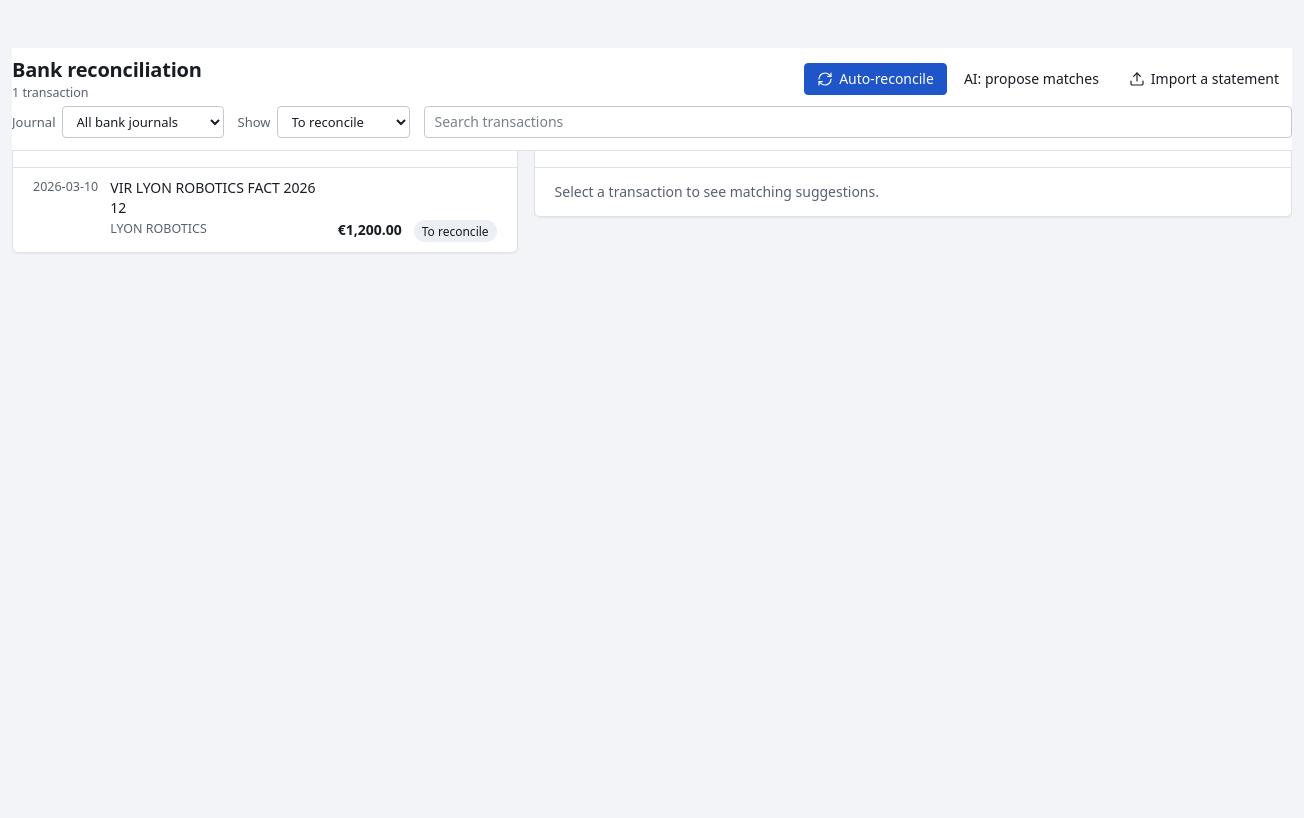
Test case: AI suggestions in bank reconciliation › ranks candidates for the selected transaction and accepts the match proposal
Step 1. Click the button "VIR LYON ROBOTICS" → [66, 187], box top-left (13, 168), bottom-right (517, 252)
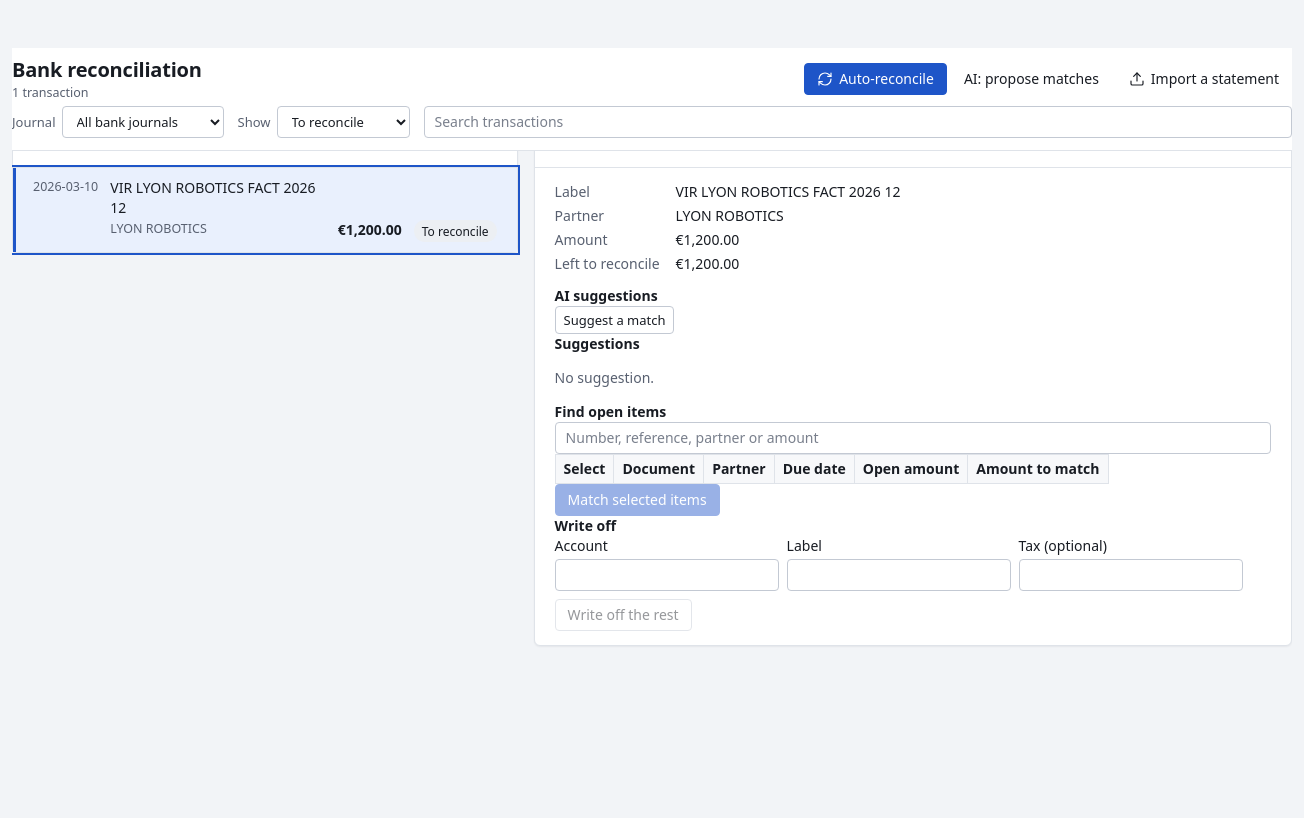
Step 2. Click the button "Suggest a match" → [615, 320], box top-left (555, 306), bottom-right (674, 334)
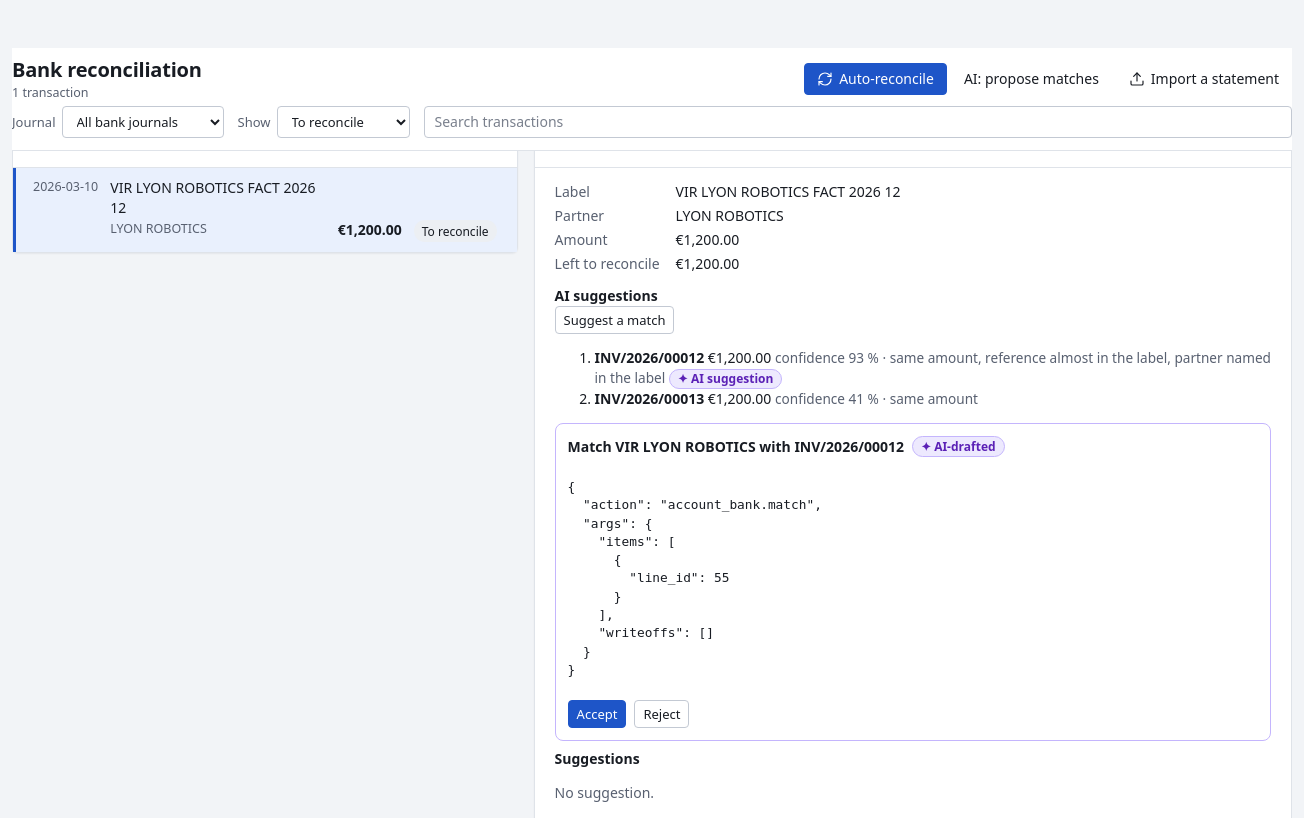
Result: the text "INV/2026/00012" is shown at top-left (595, 348), bottom-right (704, 367)
Result: the text "confidence 93 %" shows "partner named in the label" at top-left (595, 348), bottom-right (1271, 387)
Result: the text "✦ AI suggestion" is shown at top-left (669, 369), bottom-right (782, 389)
Step 3. Click the button "Accept" → [597, 714], box top-left (568, 700), bottom-right (626, 728)
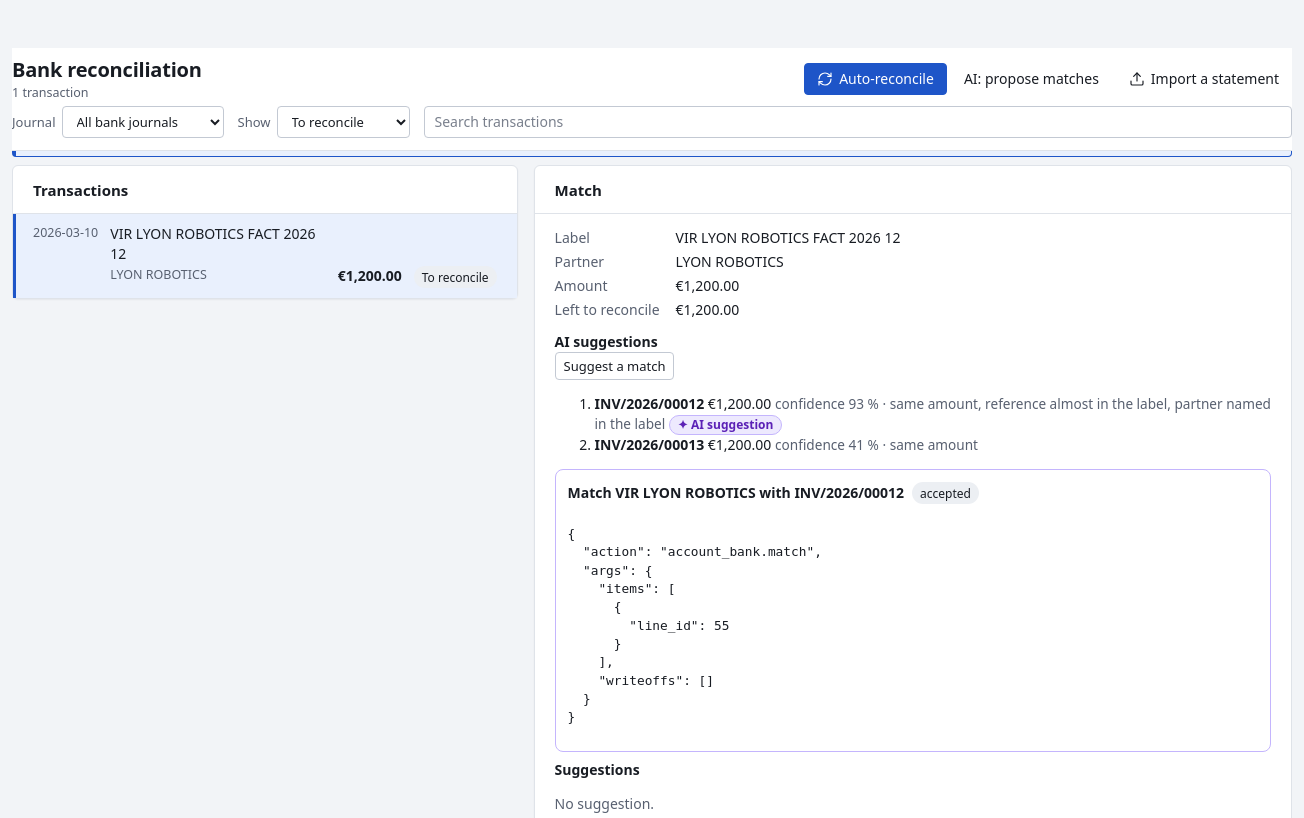
Result: the text "Match proposal decided" is shown at top-left (12, 119), bottom-right (1292, 157)
